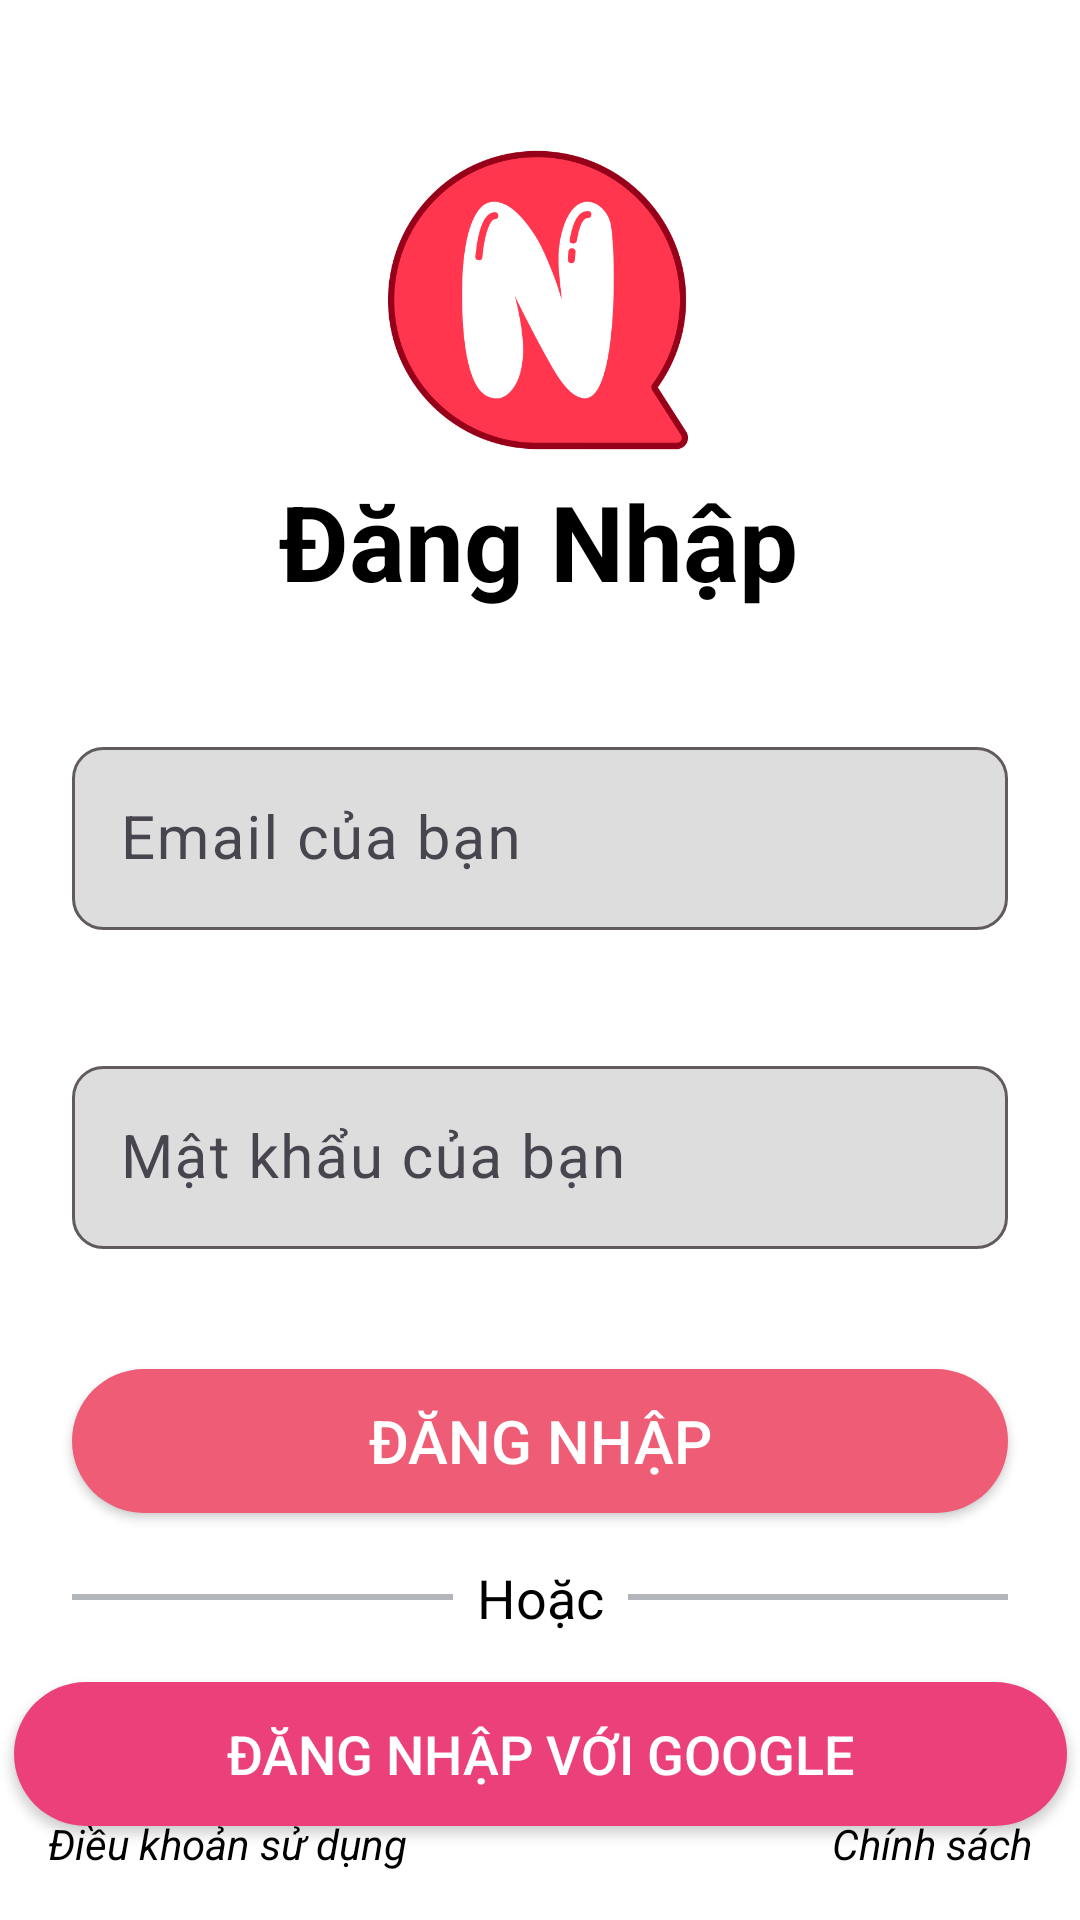

Icons on this 1080 × 1920 Android screen, each with the point to tap as point (x, y):
iconapp: point (538, 300)
